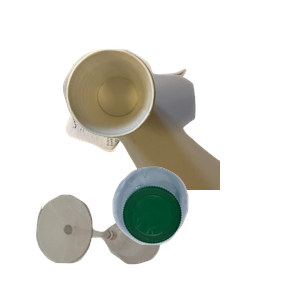glass: (34, 192, 187, 300)
paper: (63, 61, 242, 206)
plastic: (110, 164, 300, 300)
trash: (60, 47, 300, 227)
